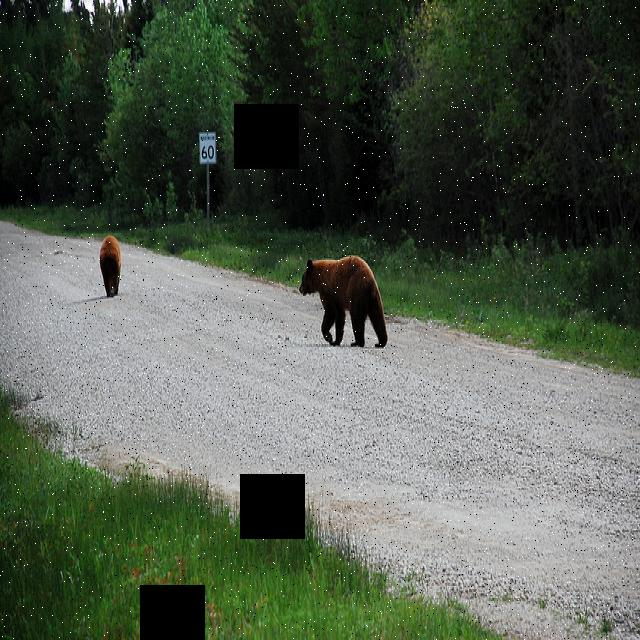Bear: (298, 244, 394, 352), (98, 224, 122, 304)
